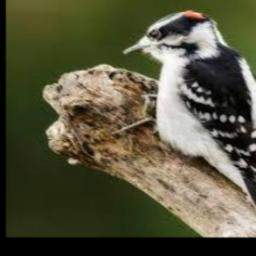Woodpecker: (110, 9, 256, 229)
